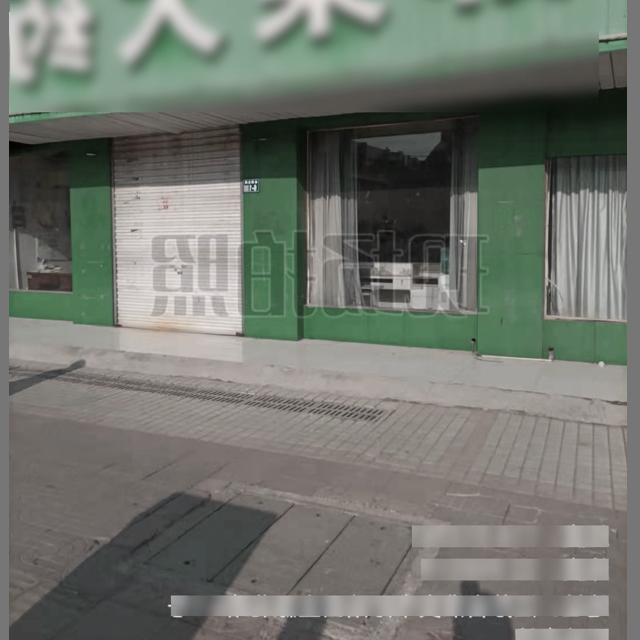good: (132, 483, 432, 638)
